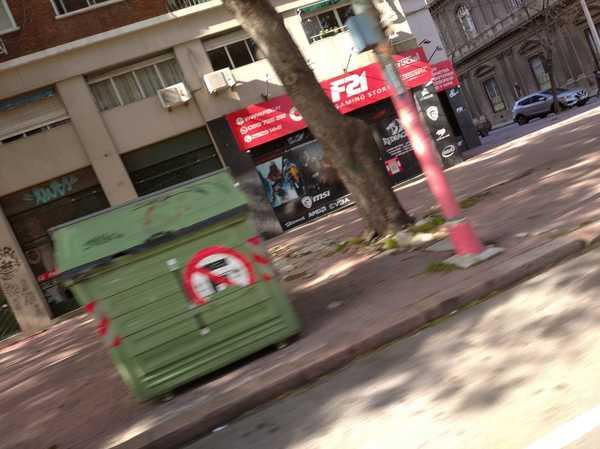Trash: (49, 169, 299, 398)
